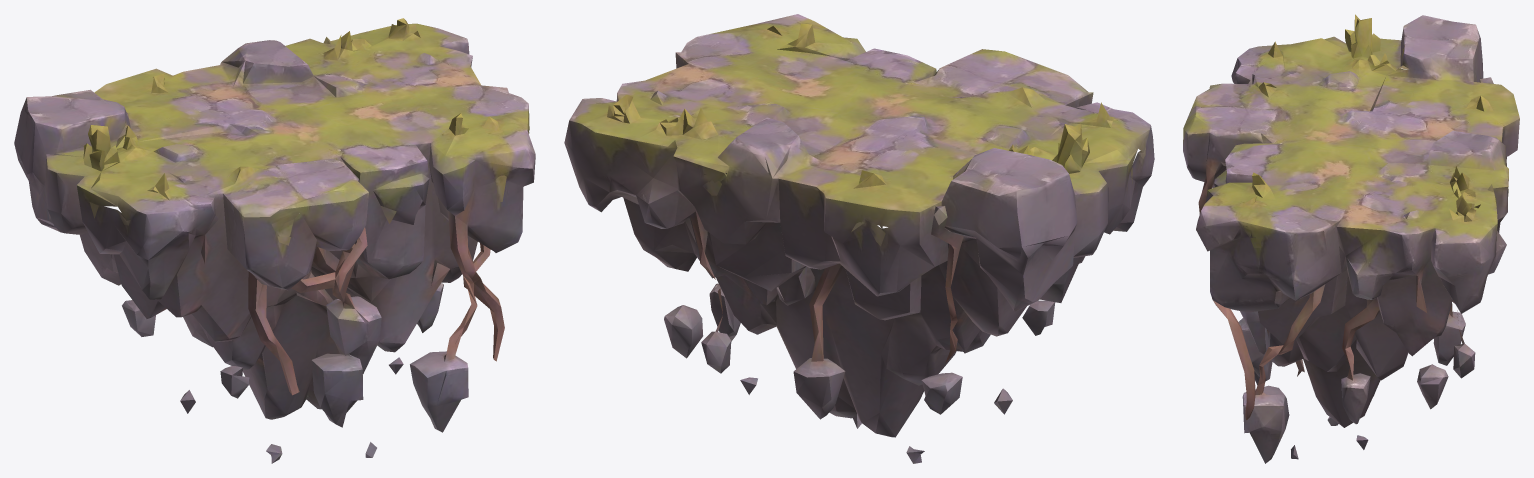
Rendered from floating_island_moss.glb.
3 views of the same model, side by side, from view 1: azimuth 30°, elevation 25°; view 2: azimuth 150°, elevation 25°; view 3: azimuth 270°, elevation 25° (orthographic). The views are drawn at different scales.
Parts seen in each view (by area): view 1: body; view 2: body; view 3: body.
Part boxes in pixels (x1,y1,x2,y2): body: [14, 18, 535, 463]; body: [564, 14, 1154, 463]; body: [1183, 14, 1519, 463].
Size of the model in its own units: 2.58 by 1.99 by 1.8.
1 material, 1 textured.
